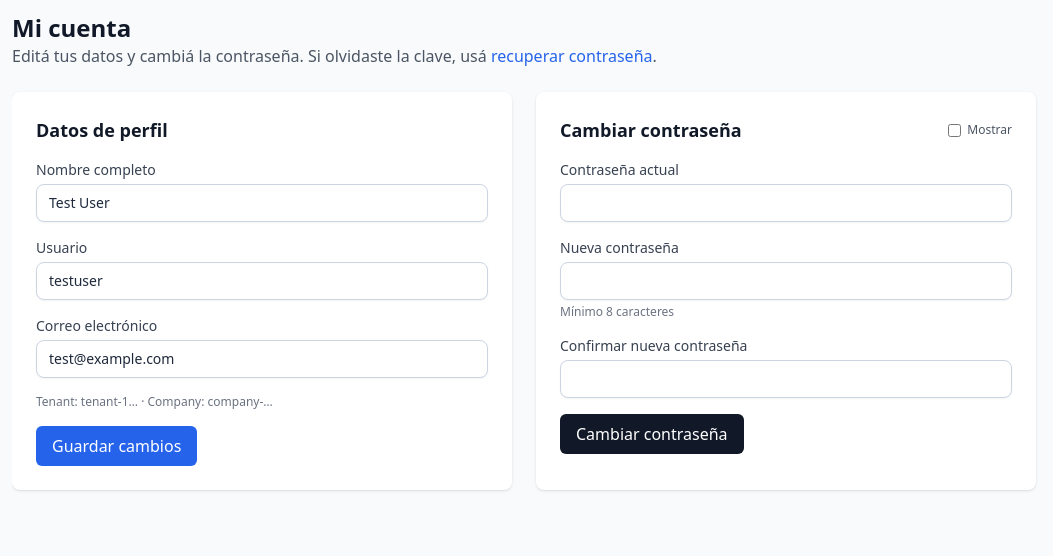
Scenario: Profile page › changes password when valid
Check: the field showing "test@example.com" is shown, box 36,340 -> 488,378
Type "secret123" into the password field labelled "Contraseña actual" at (786, 203), box 560,184 -> 1012,222
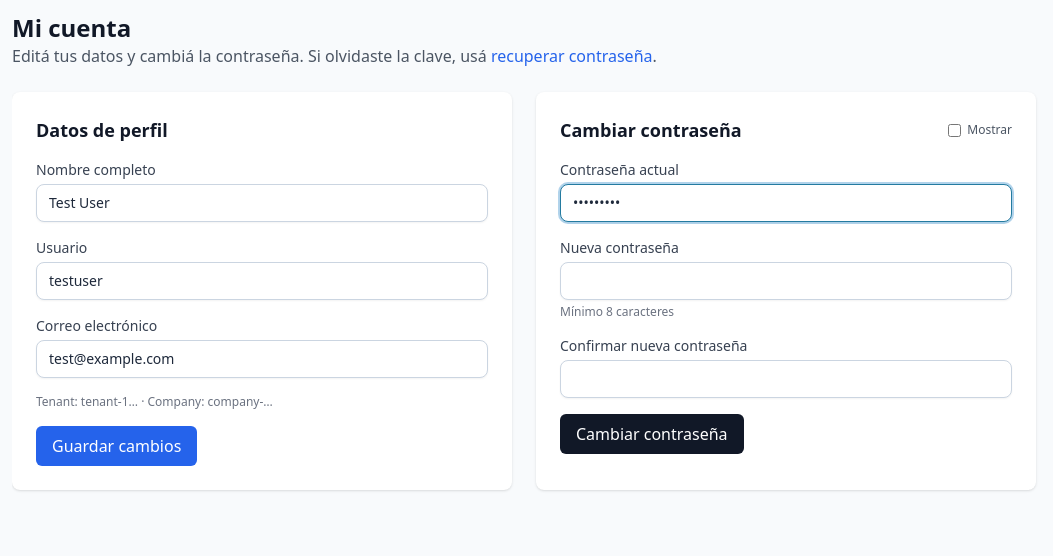
Type "newpass99" into the password field labelled "Nueva contraseña" at (786, 281), box 560,262 -> 1012,300
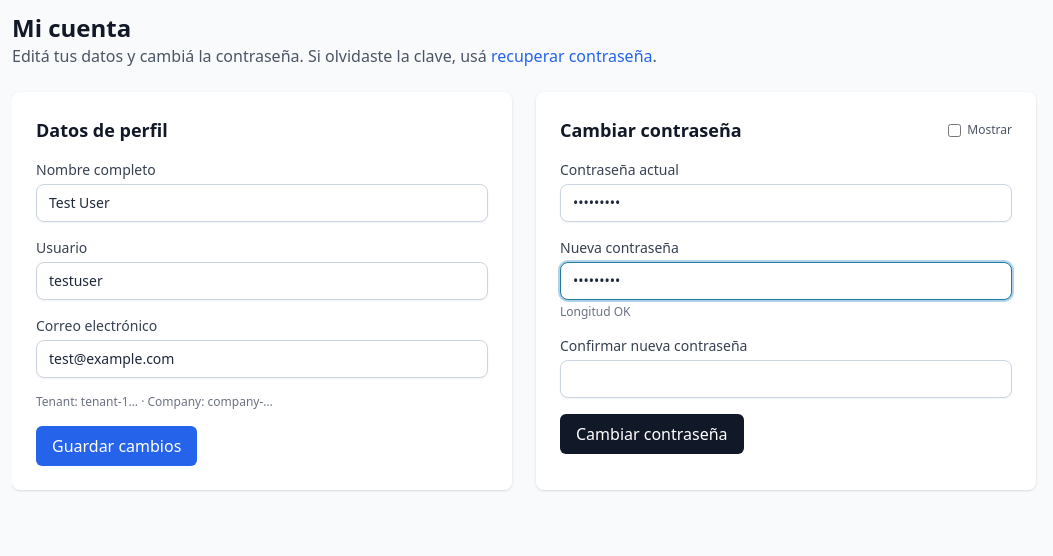
Type "newpass99" into the password field labelled "Confirmar nueva contraseña" at (786, 379), box 560,360 -> 1012,398
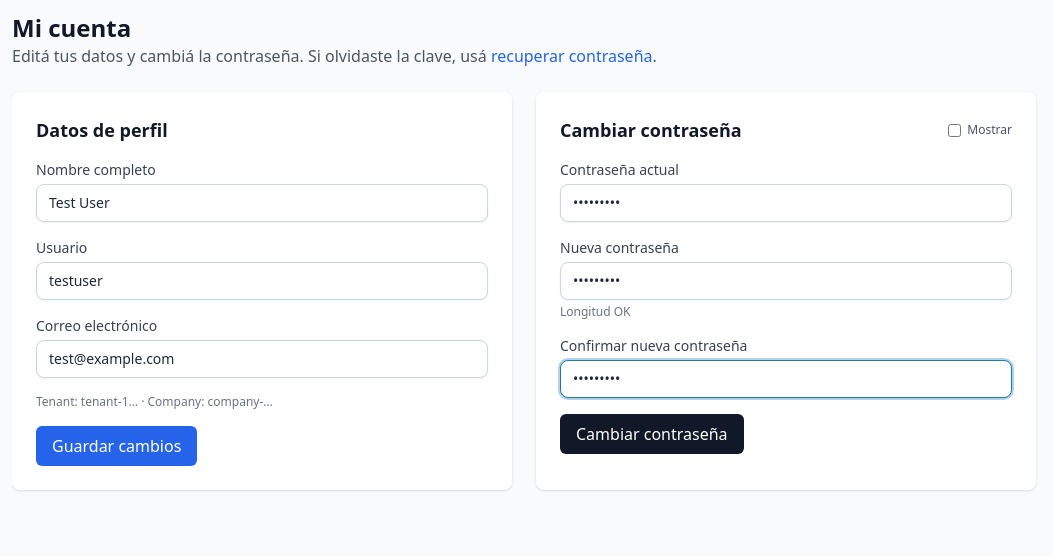
Click the button "Cambiar contraseña" at (652, 434), box 560,414 -> 744,454
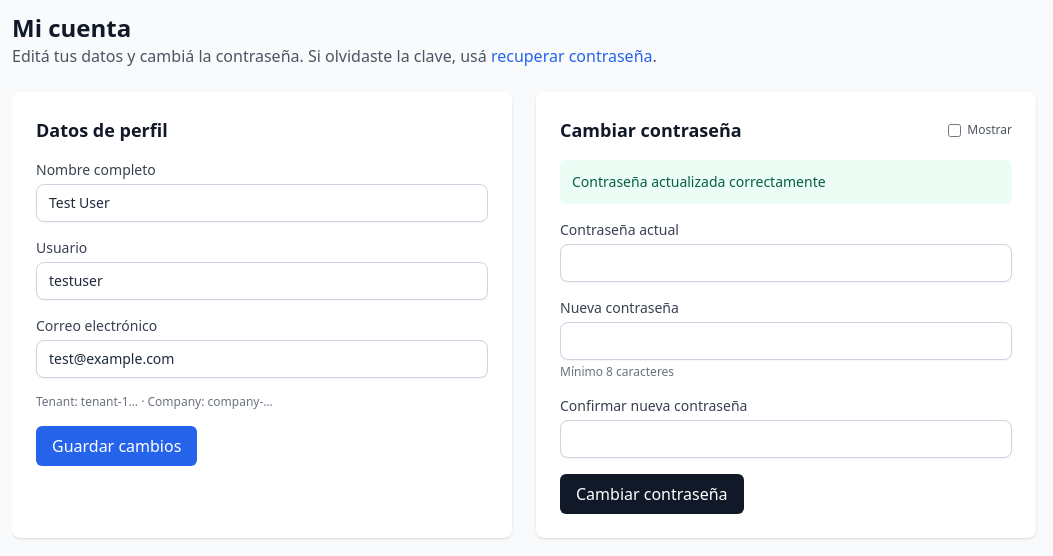
Check: the text "Contraseña actualizada correctamente" is shown, box 560,160 -> 1012,204
